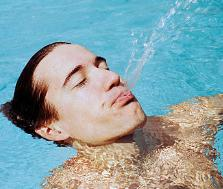Spitting: (19, 33, 156, 139)
